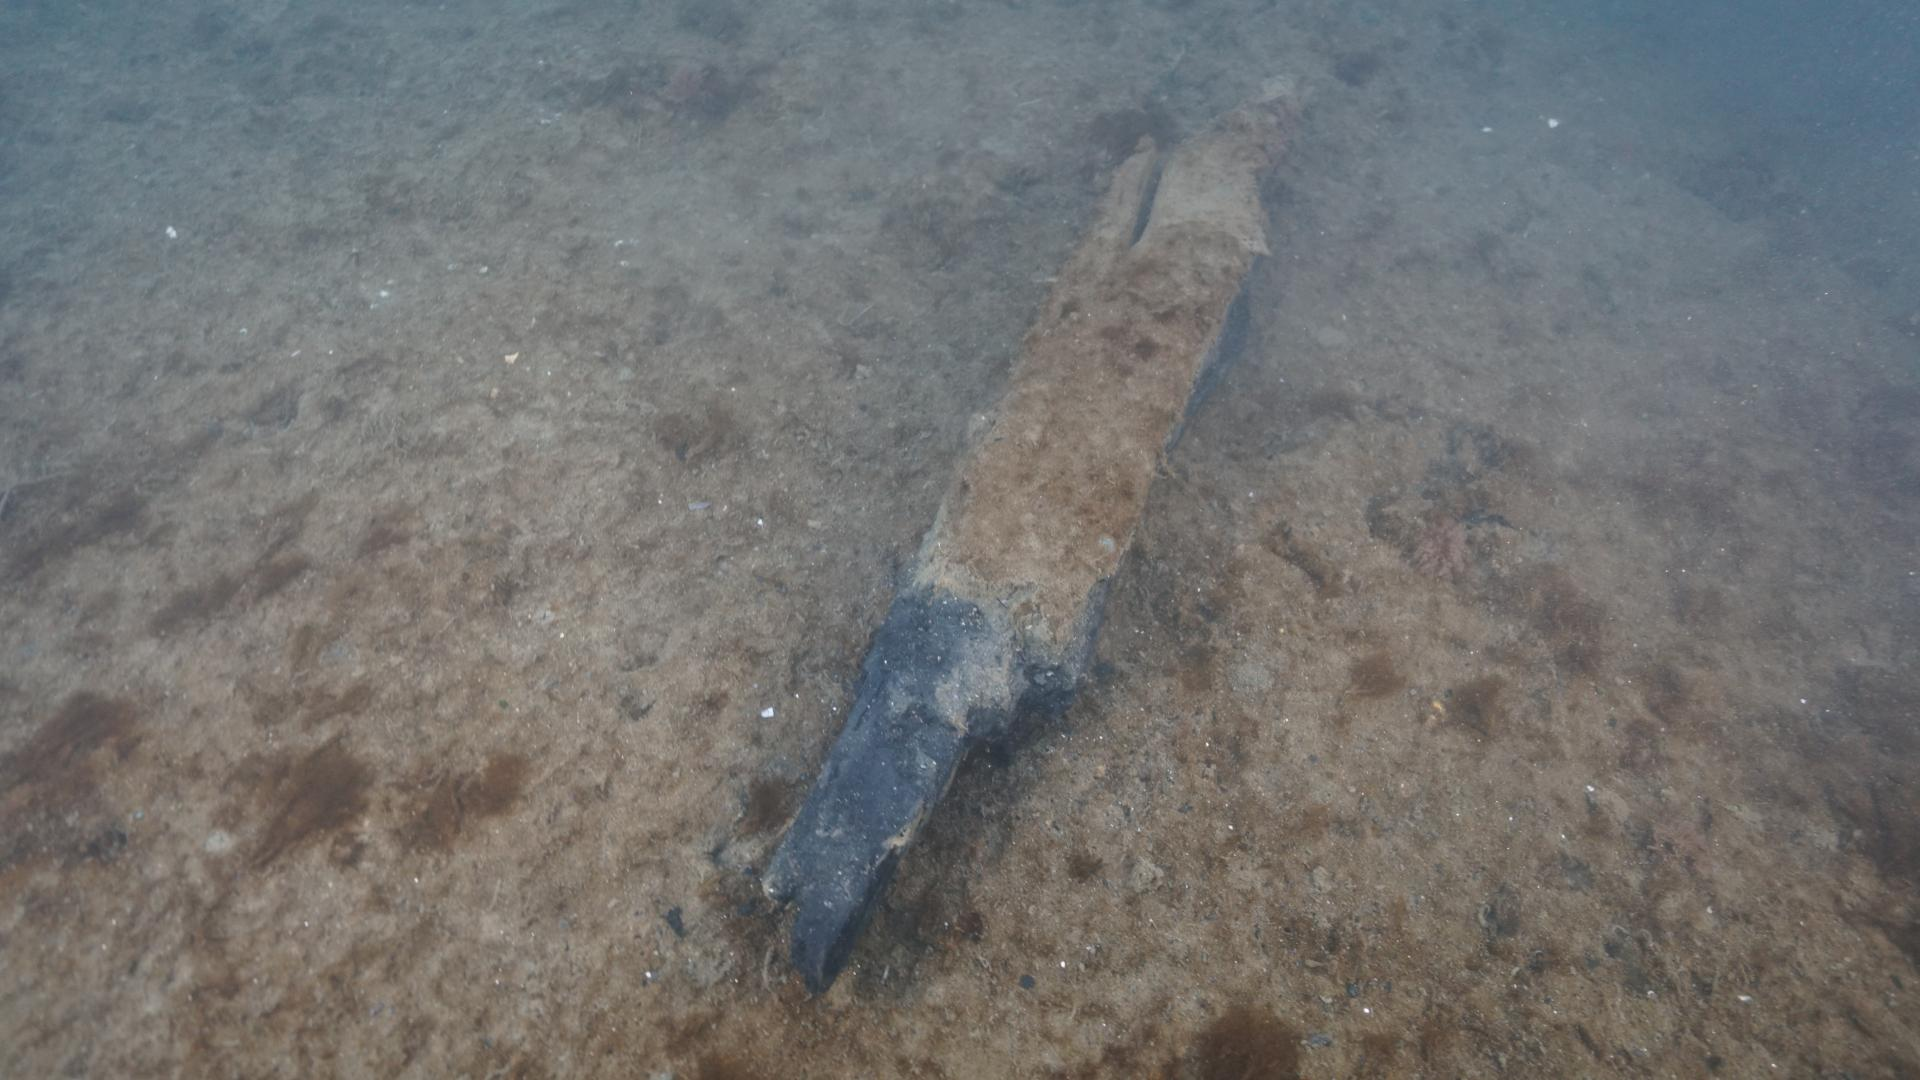wood: (760, 65, 1328, 996)
